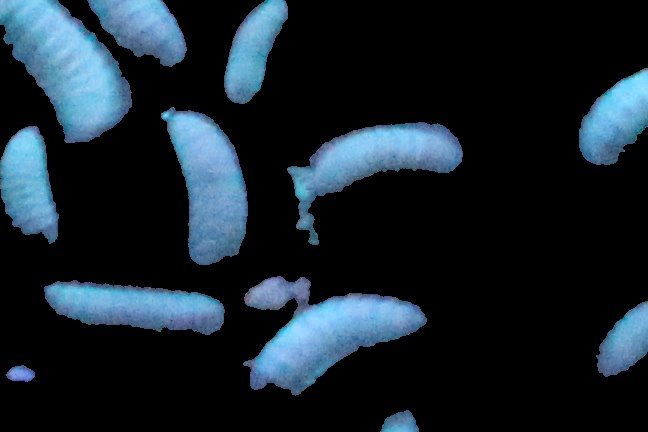larvae: (253, 289, 428, 401), (1, 1, 130, 141), (162, 108, 251, 275), (306, 119, 464, 197), (41, 281, 227, 347), (578, 58, 648, 175), (1, 124, 60, 258), (79, 1, 189, 67), (227, 1, 287, 106), (595, 298, 648, 386)
